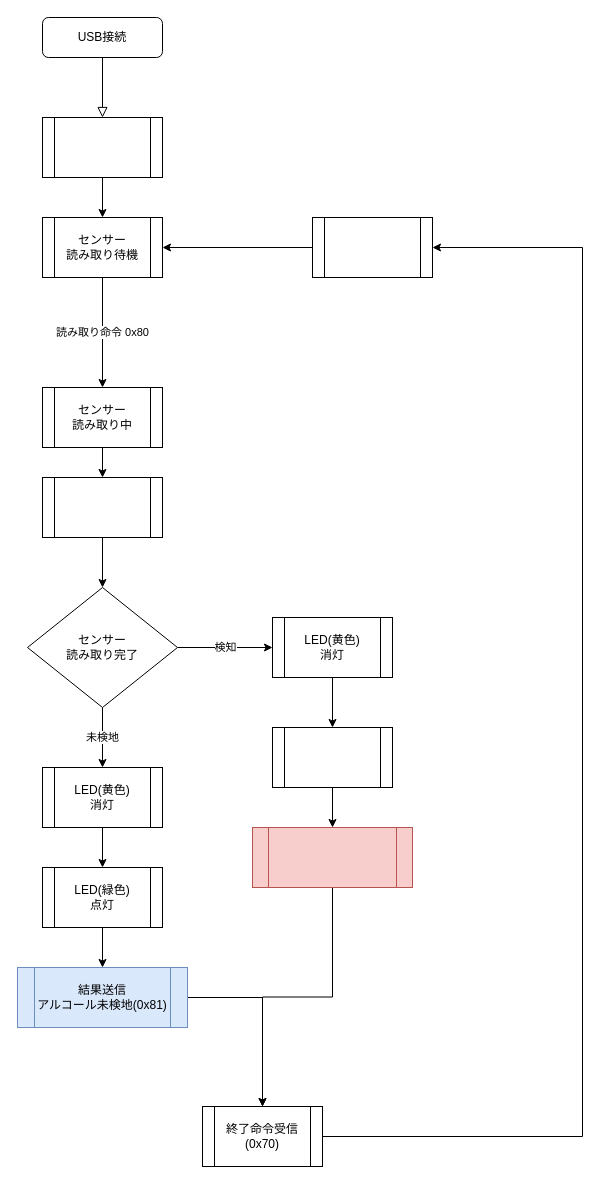
Image size: 608x1184. Some labels were removed from this diagram. The centre of each missing label's shape, as x and y in pixels:
"LED(赤、青色) 消灯" goes at point 372,247.
"LED(赤色) 点灯" goes at point 332,757.
"LED(青) 点灯" goes at point 102,147.
"LED(黄色) 点灯" goes at point 102,507.
"結果送信 アルコール検知(0x82)" goes at point 332,857.
